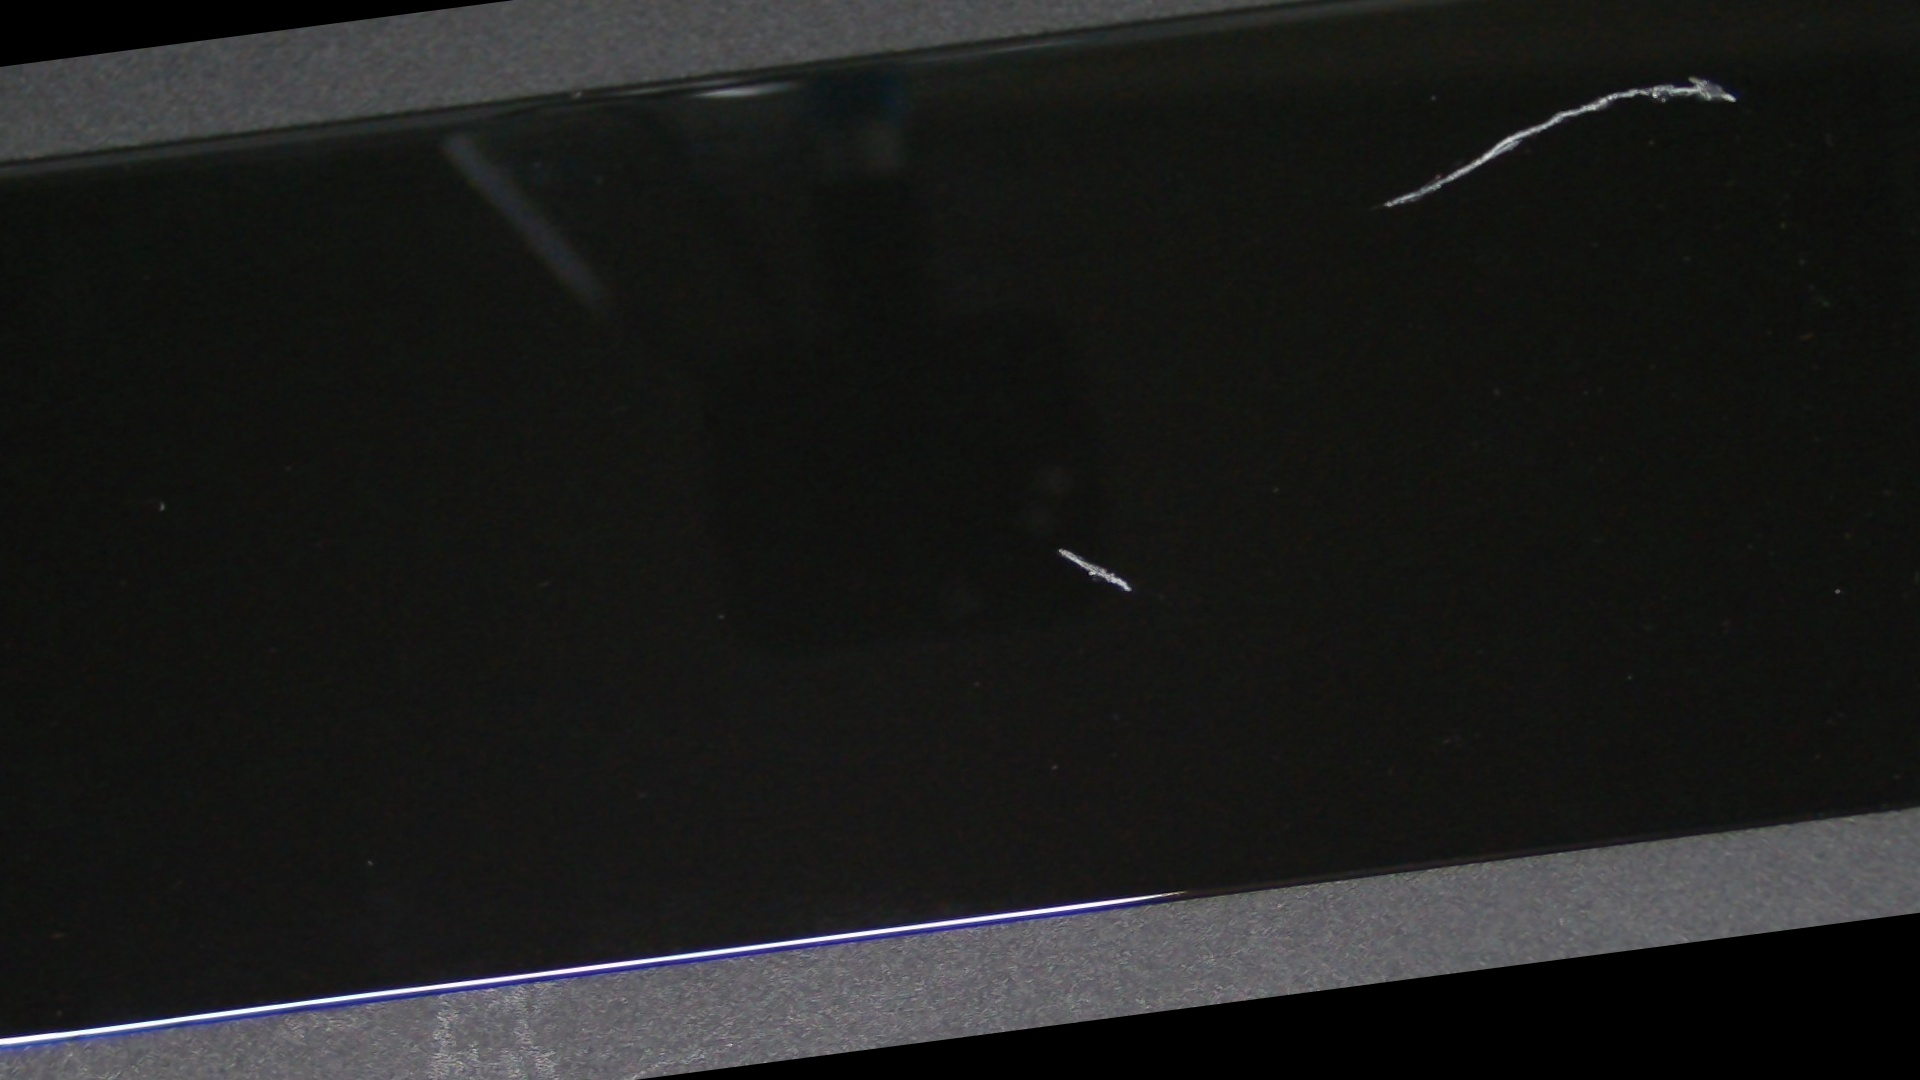oil: (397, 162, 1720, 932), (713, 0, 1920, 314)
